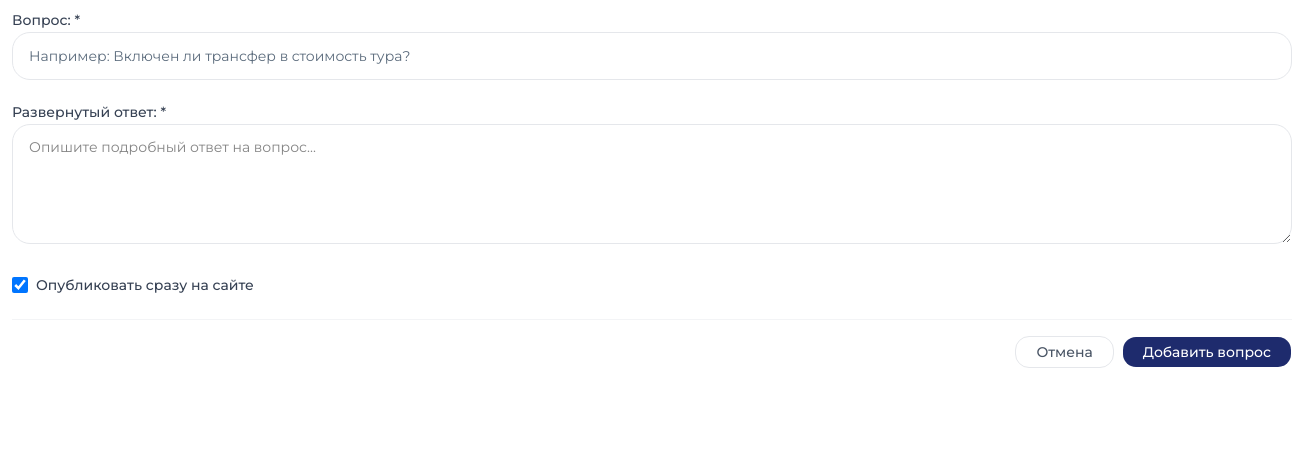
Test case: FaqForm › обработка ошибок сервера › показывает сообщение при отсутствии ответа сервера
Type "Вопрос?" into the field with placeholder "Например: Включен ли трансфер в стоимость тура?" at (652, 56), box 12,32 -> 1292,80
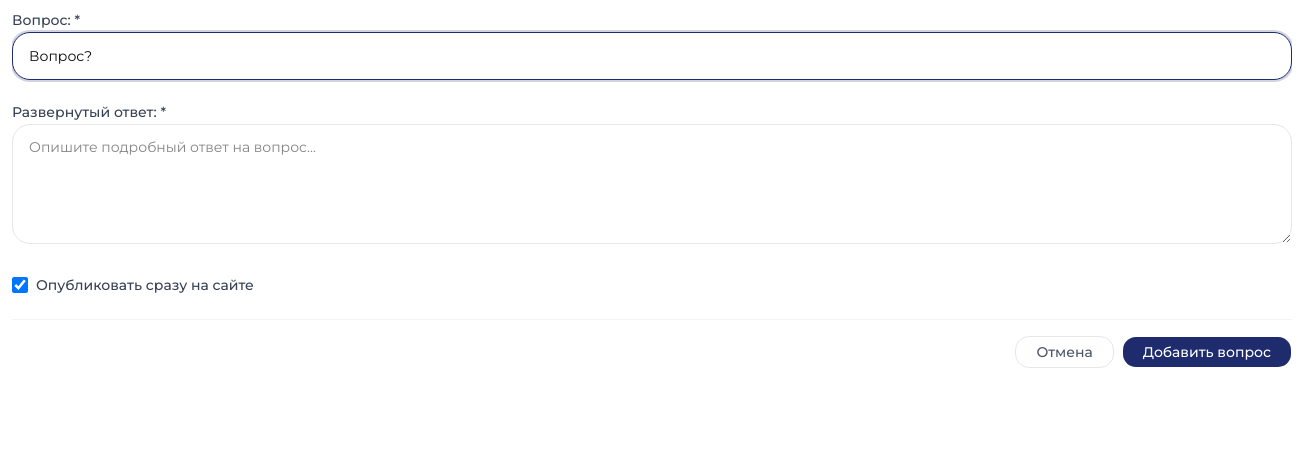
Type "Ответ" into the text box with placeholder "Опишите подробный ответ на вопрос..." at (652, 184), box 12,124 -> 1292,244
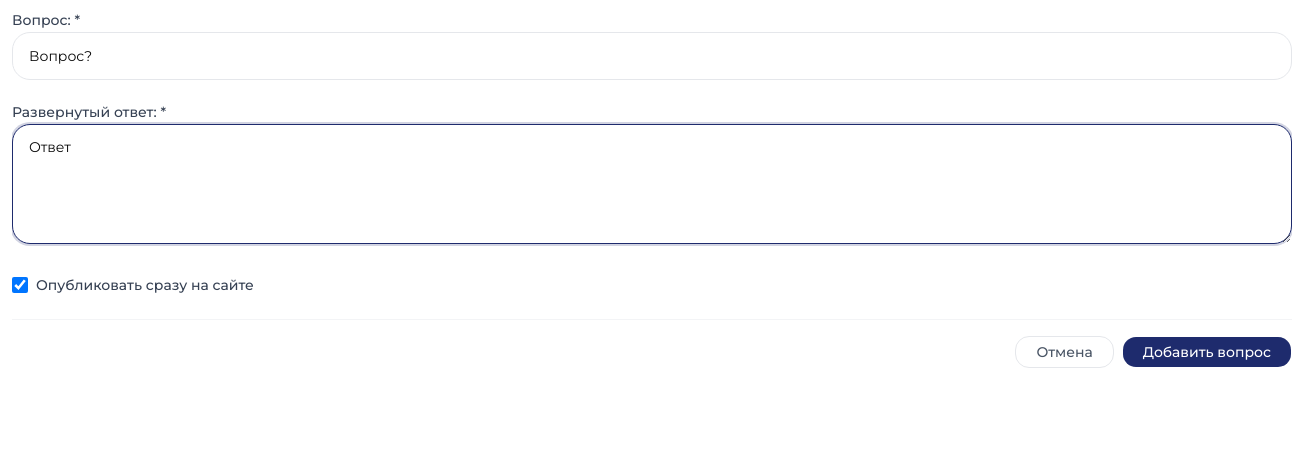
Click the button "Добавить вопрос" at (1207, 352), box 1122,336 -> 1292,368
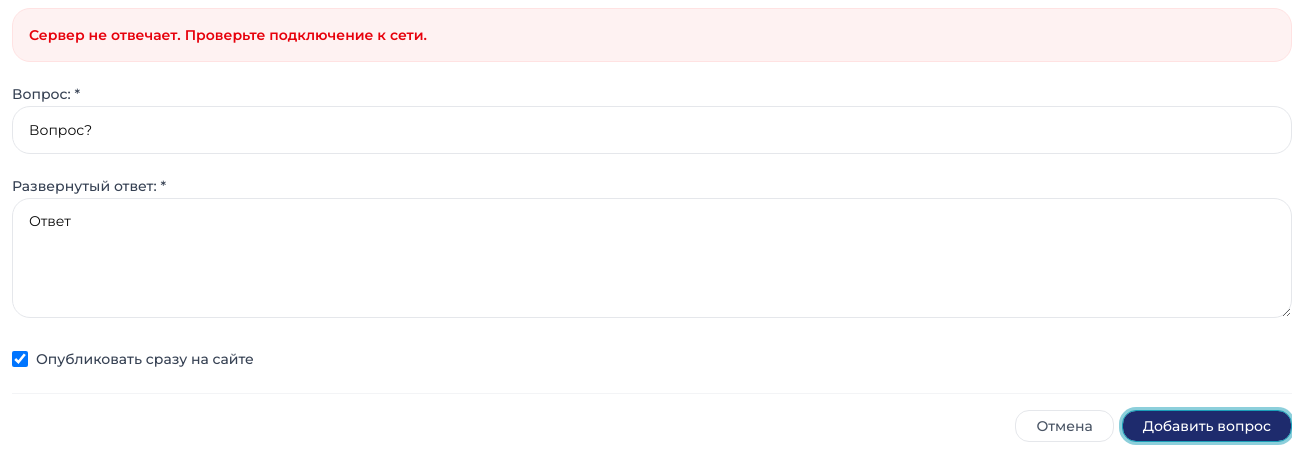
Expected: the text "Сервер не отвечает. Проверьте подключение к сети." is shown, 12,8 -> 1292,62
